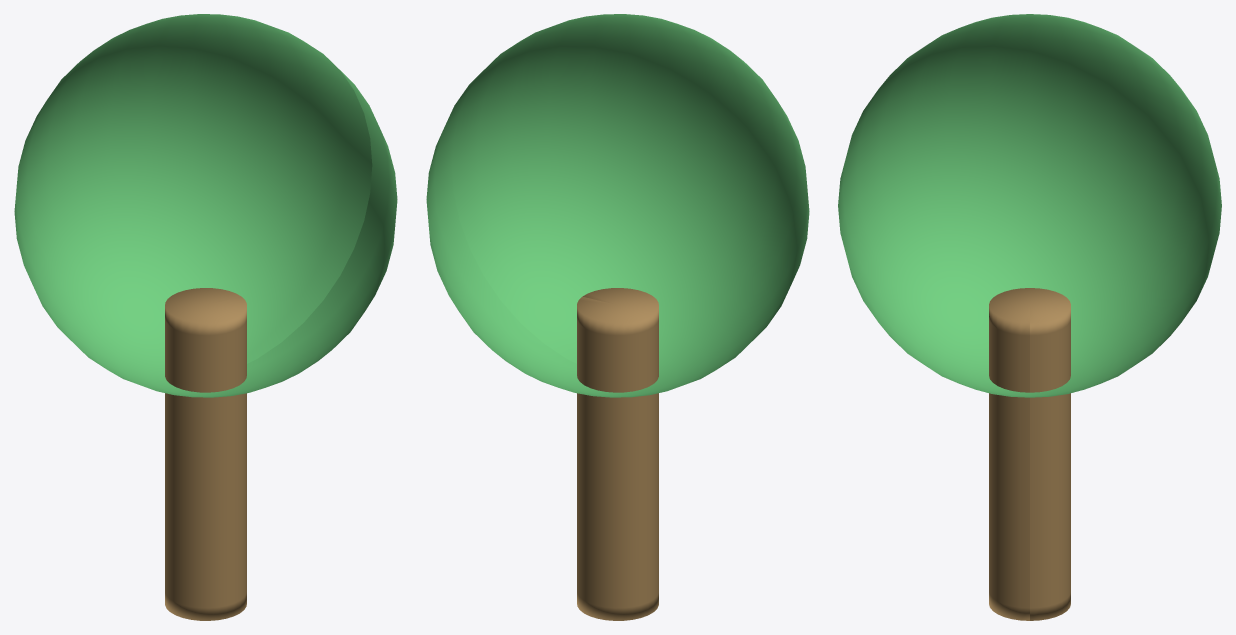
File: asset_e6d1787a3e.glb
The picture shows the model from 3 angles, left to right: view 1: azimuth 30°, elevation 25°; view 2: azimuth 150°, elevation 25°; view 3: azimuth 270°, elevation 25°; orthographic projection.
Visible parts, largest first — view 1: leaves, trunk; view 2: leaves, trunk; view 3: leaves, trunk.
Boxes of the visible parts, x1=… form: leaves: x1=14, y1=14, x2=397, y2=397; trunk: x1=165, y1=288, x2=246, y2=620; leaves: x1=426, y1=14, x2=809, y2=397; trunk: x1=577, y1=288, x2=658, y2=620; leaves: x1=838, y1=14, x2=1221, y2=397; trunk: x1=989, y1=288, x2=1070, y2=620.
Size of the model in its own units: 1.4 by 2.3 by 1.4.
